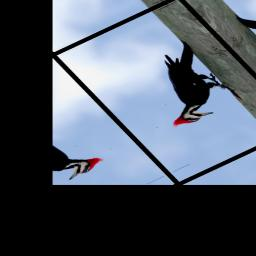Woodpecker: (118, 38, 245, 131)
